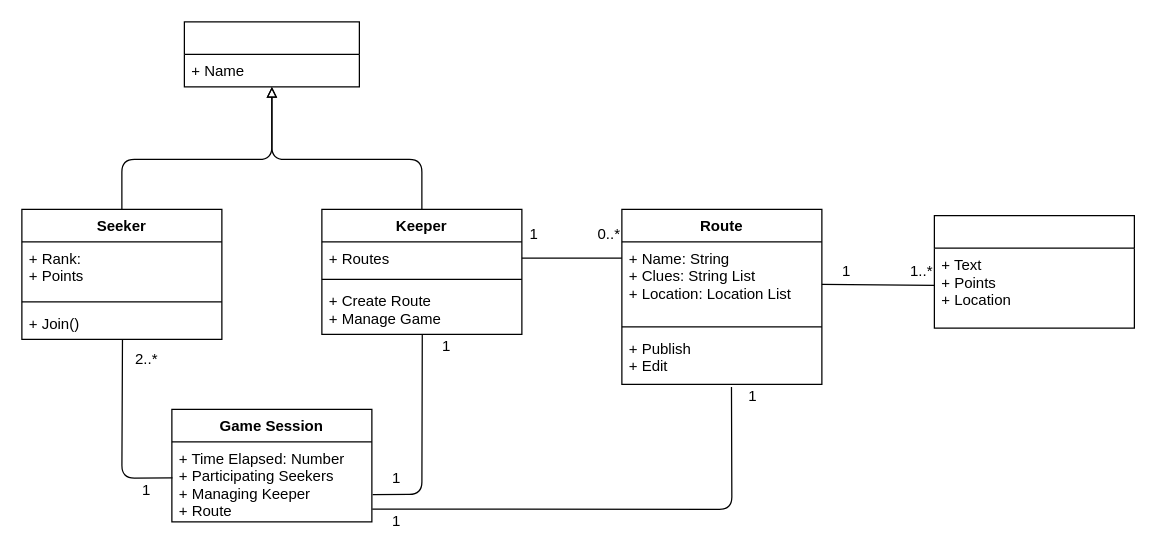
Some shapes in this 1156 by 556 pixel diagram are drawn without their labels. The shapes that lost their labels are listed below. From the top down, each one's box as (x1, y1, x2, y2) in pixels, then its label:
(183, 21, 359, 87): Person
(933, 214, 1134, 328): Clues
